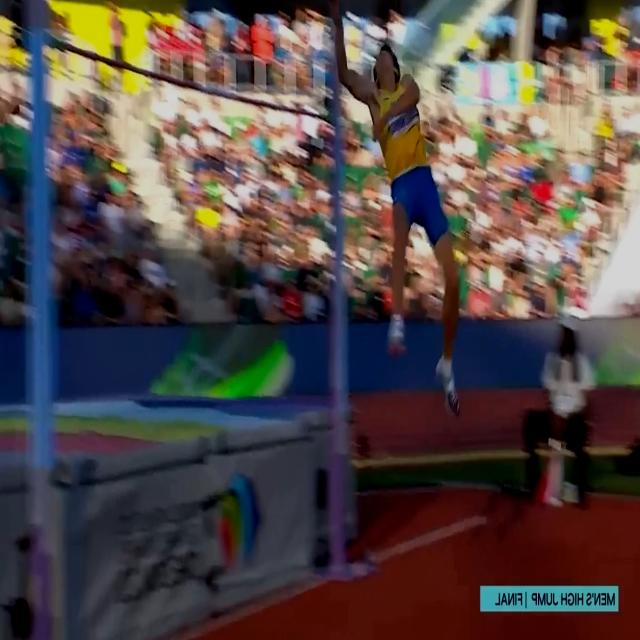jump: (324, 0, 463, 421)
